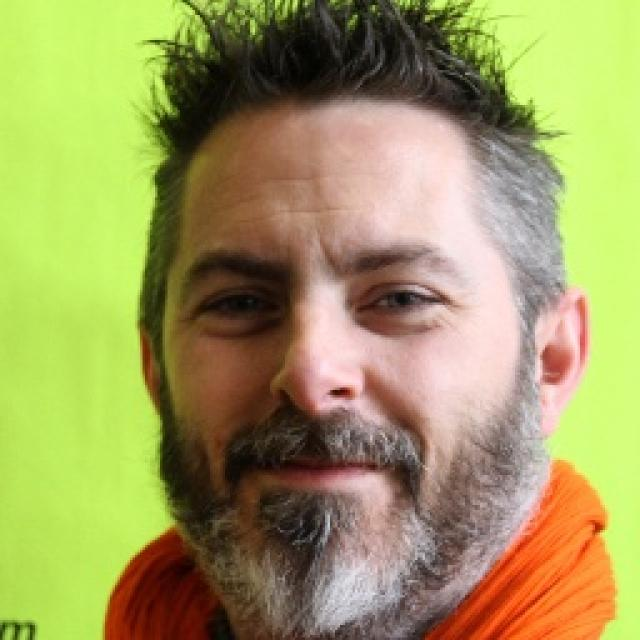earlobe: (527, 382, 567, 442)
eye: (194, 287, 281, 324), (357, 288, 449, 319)
nose: (263, 396, 370, 439)
wholeear: (526, 286, 590, 442), (136, 316, 169, 436)
